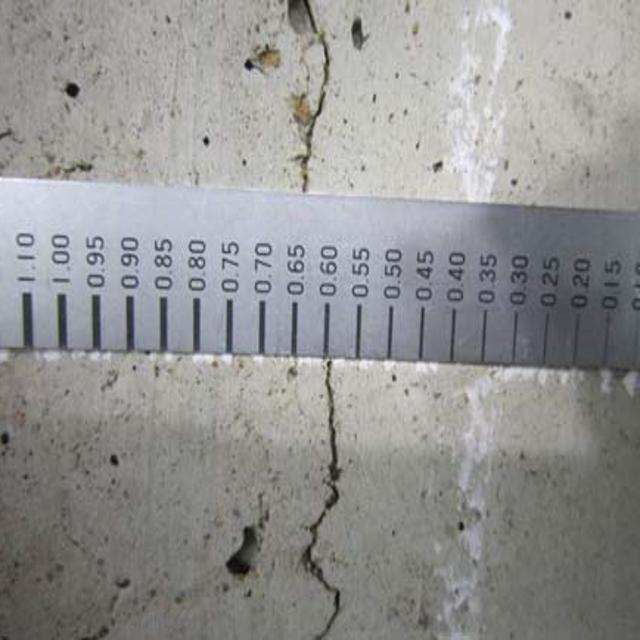crack: (301, 361, 363, 640), (283, 1, 341, 190)
